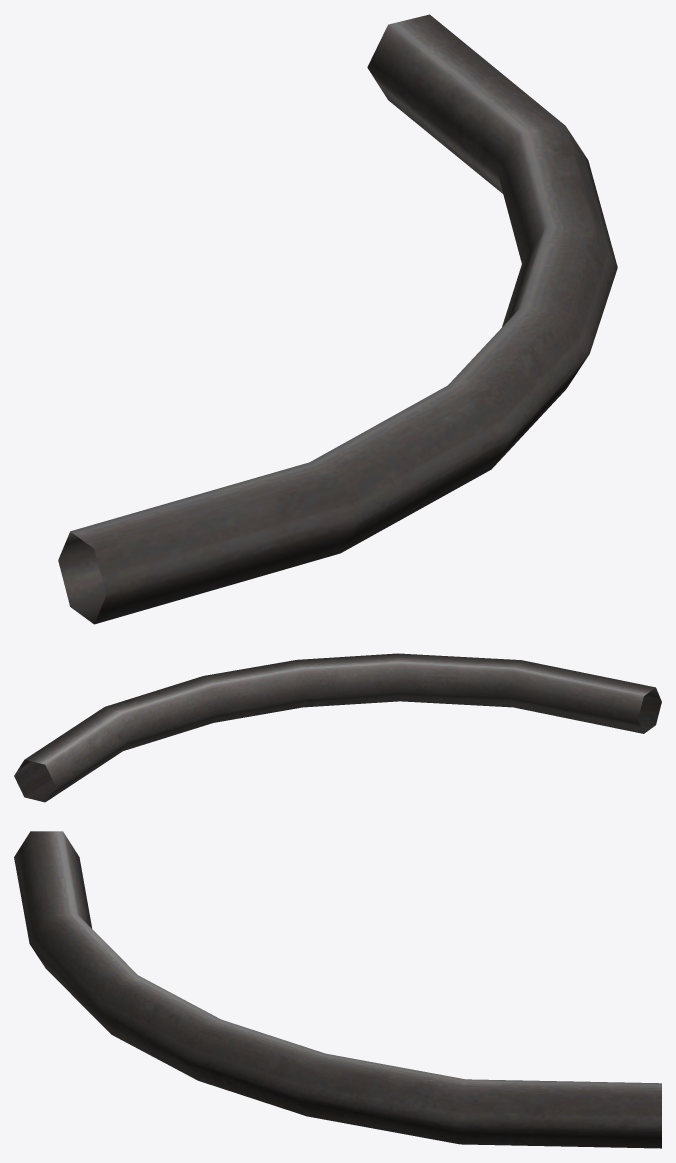
File: railings_factory_bend_single.DAE
3 views of the same model, one above another, from view 1: azimuth 30°, elevation 25°; view 2: azimuth 150°, elevation 25°; view 3: azimuth 270°, elevation 25° (orthographic). The views are drawn at different scales.
Parts seen in each view (by area): view 1: Object146; view 2: Object146; view 3: Object146.
Boxes of the visible parts, bbox=[...] form: Object146: bbox=[58, 14, 617, 624]; Object146: bbox=[14, 653, 661, 802]; Object146: bbox=[14, 831, 661, 1148].
Size of the model in its own units: 0.5903 by 0.052 by 0.5931.
